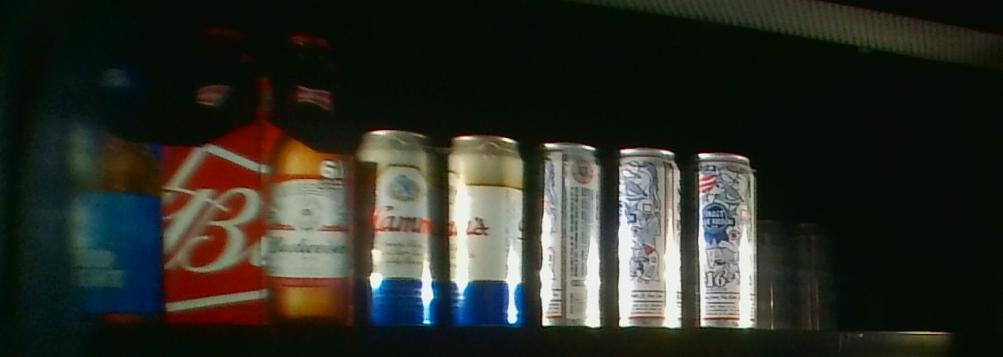bottle: (156, 16, 358, 326), (525, 126, 761, 333), (362, 101, 530, 331), (762, 197, 843, 329)
